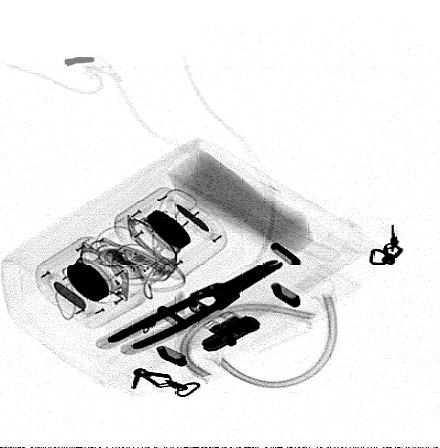Pliers: (108, 259, 283, 350)
